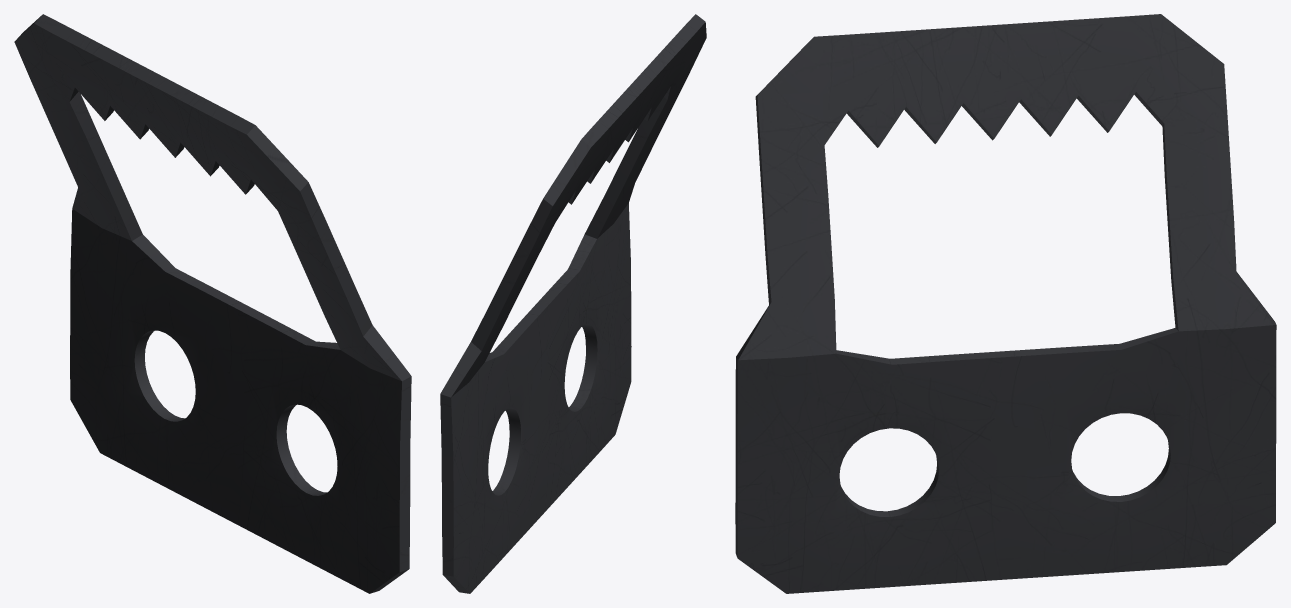
File: frame_hanger.glb
3 renders of one model, left to right at view 1: azimuth 30°, elevation 25°; view 2: azimuth 150°, elevation 25°; view 3: azimuth 270°, elevation 25°, orthographic. The views are drawn at different scales.
Parts seen in each view (by area): view 1: Backing Board; view 2: Backing Board; view 3: Backing Board.
Boxes of the visible parts, x1,y1,x2,y2 form: Backing Board: [14, 14, 411, 593]; Backing Board: [440, 14, 706, 593]; Backing Board: [735, 14, 1276, 593].
Bounding box in the file's own units: 0.0774 × 0.2049 × 0.2003.
Materials: 1 (1 with a texture image).
